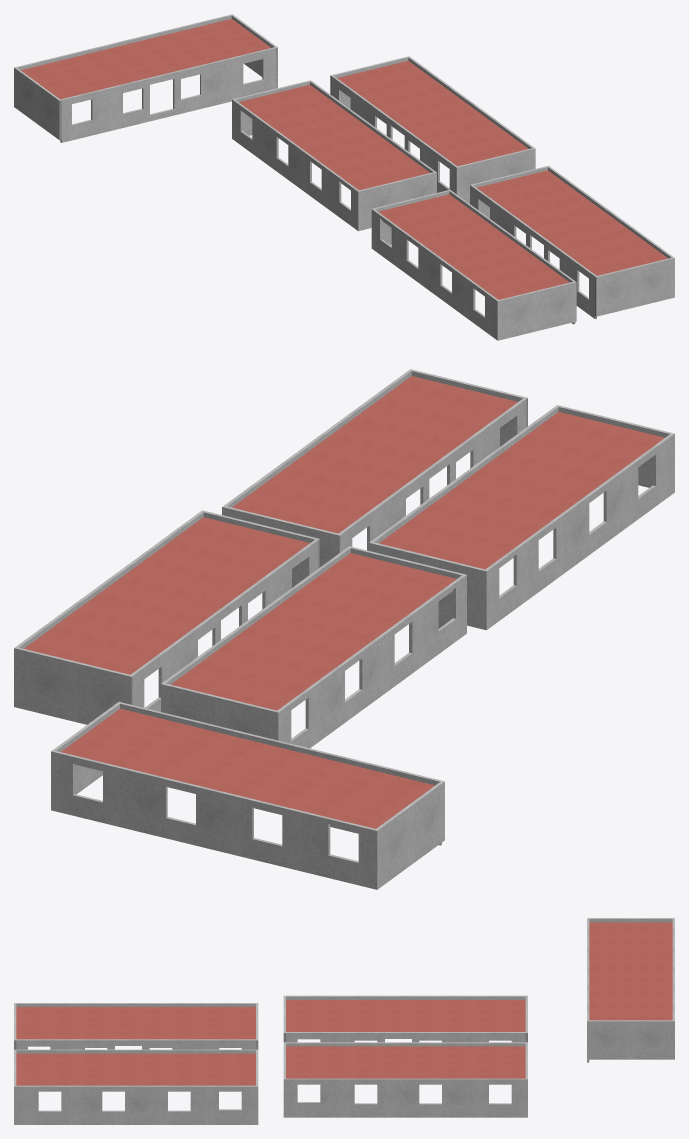
File: MUROS.fbx
The picture shows the model from 3 angles, top to bottom: view 1: azimuth 30°, elevation 25°; view 2: azimuth 150°, elevation 25°; view 3: azimuth 270°, elevation 25°; orthographic projection. The views are drawn at different scales.
Visible parts, largest first — view 1: Group21, Group14, Group18, Group5, Group10, Group22, Group1, Group7, Group3, Group19, Group17, Group15 (+13 smaller); view 2: Group18, Group14, Group10, Group5, Group21, Group23, Group1, Group7, Group11, Group15, Group17, Group24 (+13 smaller); view 3: Group21, Group16, Group14, Group18, Group12, Group5, Group10, Group25, Group4, Group9, Group15, Group7 (+5 smaller).
Part boxes in pixels (left/top/right/bottom): Group21: left=21, top=18, right=275, bottom=105; Group14: left=331, top=60, right=528, bottom=166; Group18: left=477, top=170, right=667, bottom=281; Group5: left=378, top=194, right=569, bottom=299; Group10: left=239, top=85, right=429, bottom=190; Group22: left=60, top=46, right=277, bottom=142; Group1: left=371, top=208, right=497, bottom=339; Group7: left=232, top=99, right=358, bottom=229; Group3: left=496, top=281, right=576, bottom=340; Group19: left=595, top=257, right=674, bottom=316; Group17: left=470, top=184, right=596, bottom=318; Group15: left=330, top=75, right=457, bottom=193; Group18: left=232, top=376, right=526, bottom=542; Group14: left=24, top=517, right=318, bottom=681; Group10: left=171, top=553, right=456, bottom=710; Group5: left=379, top=412, right=664, bottom=569; Group21: left=61, top=708, right=434, bottom=833; Group23: left=51, top=750, right=375, bottom=888; Group1: left=483, top=434, right=673, bottom=630; Group7: left=275, top=575, right=464, bottom=748; Group11: left=17, top=647, right=133, bottom=724; Group15: left=128, top=539, right=318, bottom=711; Group17: left=336, top=398, right=526, bottom=554; Group24: left=374, top=780, right=444, bottom=889; Group21: left=589, top=922, right=672, bottom=1020; Group16: left=16, top=1085, right=258, bottom=1124; Group14: left=286, top=1046, right=525, bottom=1084; Group18: left=16, top=1053, right=255, bottom=1091; Group12: left=286, top=1078, right=527, bottom=1117; Group5: left=16, top=1007, right=255, bottom=1045; Group10: left=286, top=1000, right=525, bottom=1038; Group25: left=587, top=1020, right=672, bottom=1059; Group4: left=16, top=1039, right=258, bottom=1049; Group9: left=286, top=1032, right=527, bottom=1042; Group15: left=286, top=1042, right=525, bottom=1084; Group7: left=286, top=995, right=527, bottom=999.
Bounding box in the file's own units: 23.71 × 4.34 × 43.93.
